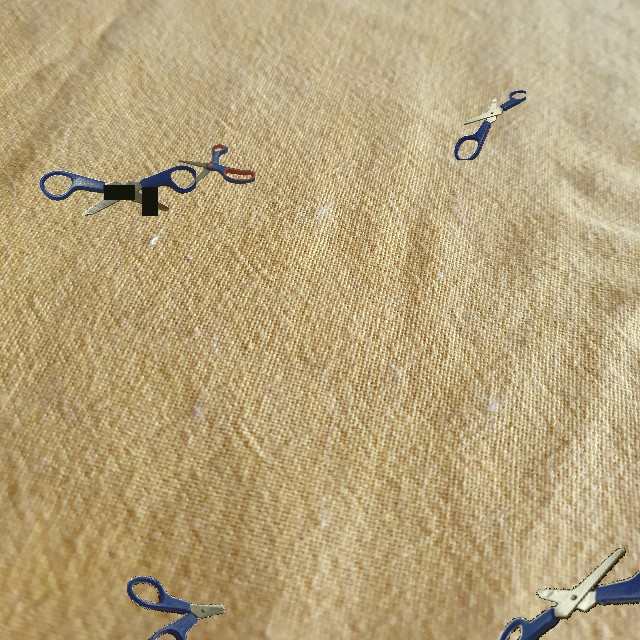scissors: (496, 546, 640, 640), (39, 165, 196, 216), (127, 576, 225, 640), (454, 90, 526, 160), (179, 144, 255, 193)
